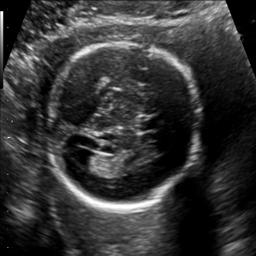normal: (41, 38, 202, 217)
